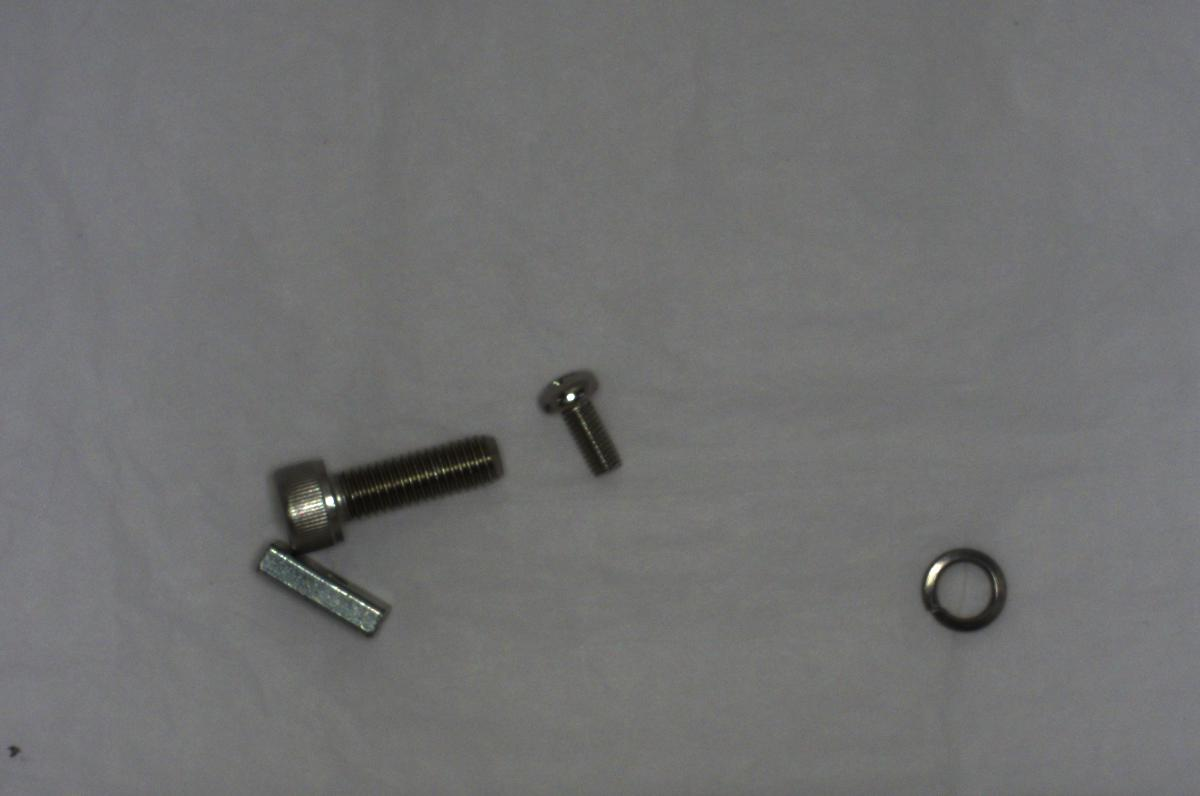Hexagon screw: (254, 429, 518, 545)
Rectangular nut: (242, 545, 392, 636)
Round head screw: (538, 362, 624, 483)
Spring washer: (914, 540, 1018, 628)
